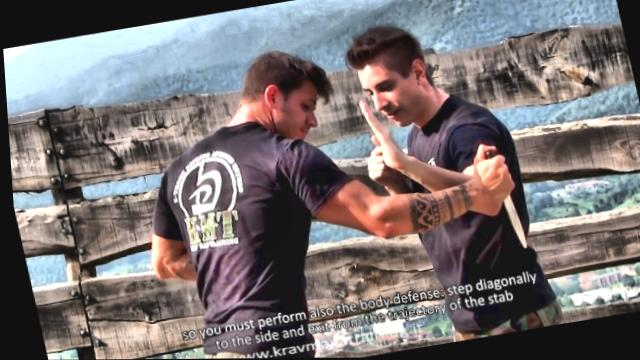knife: (465, 137, 530, 253)
